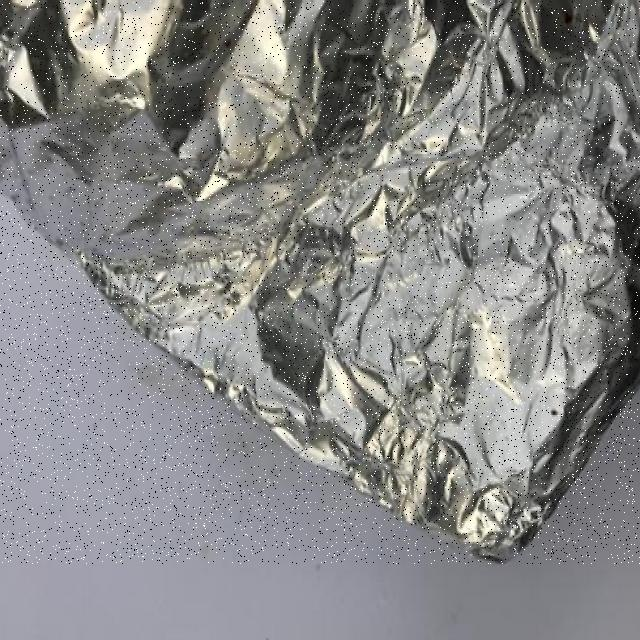metal: (0, 1, 640, 564)
